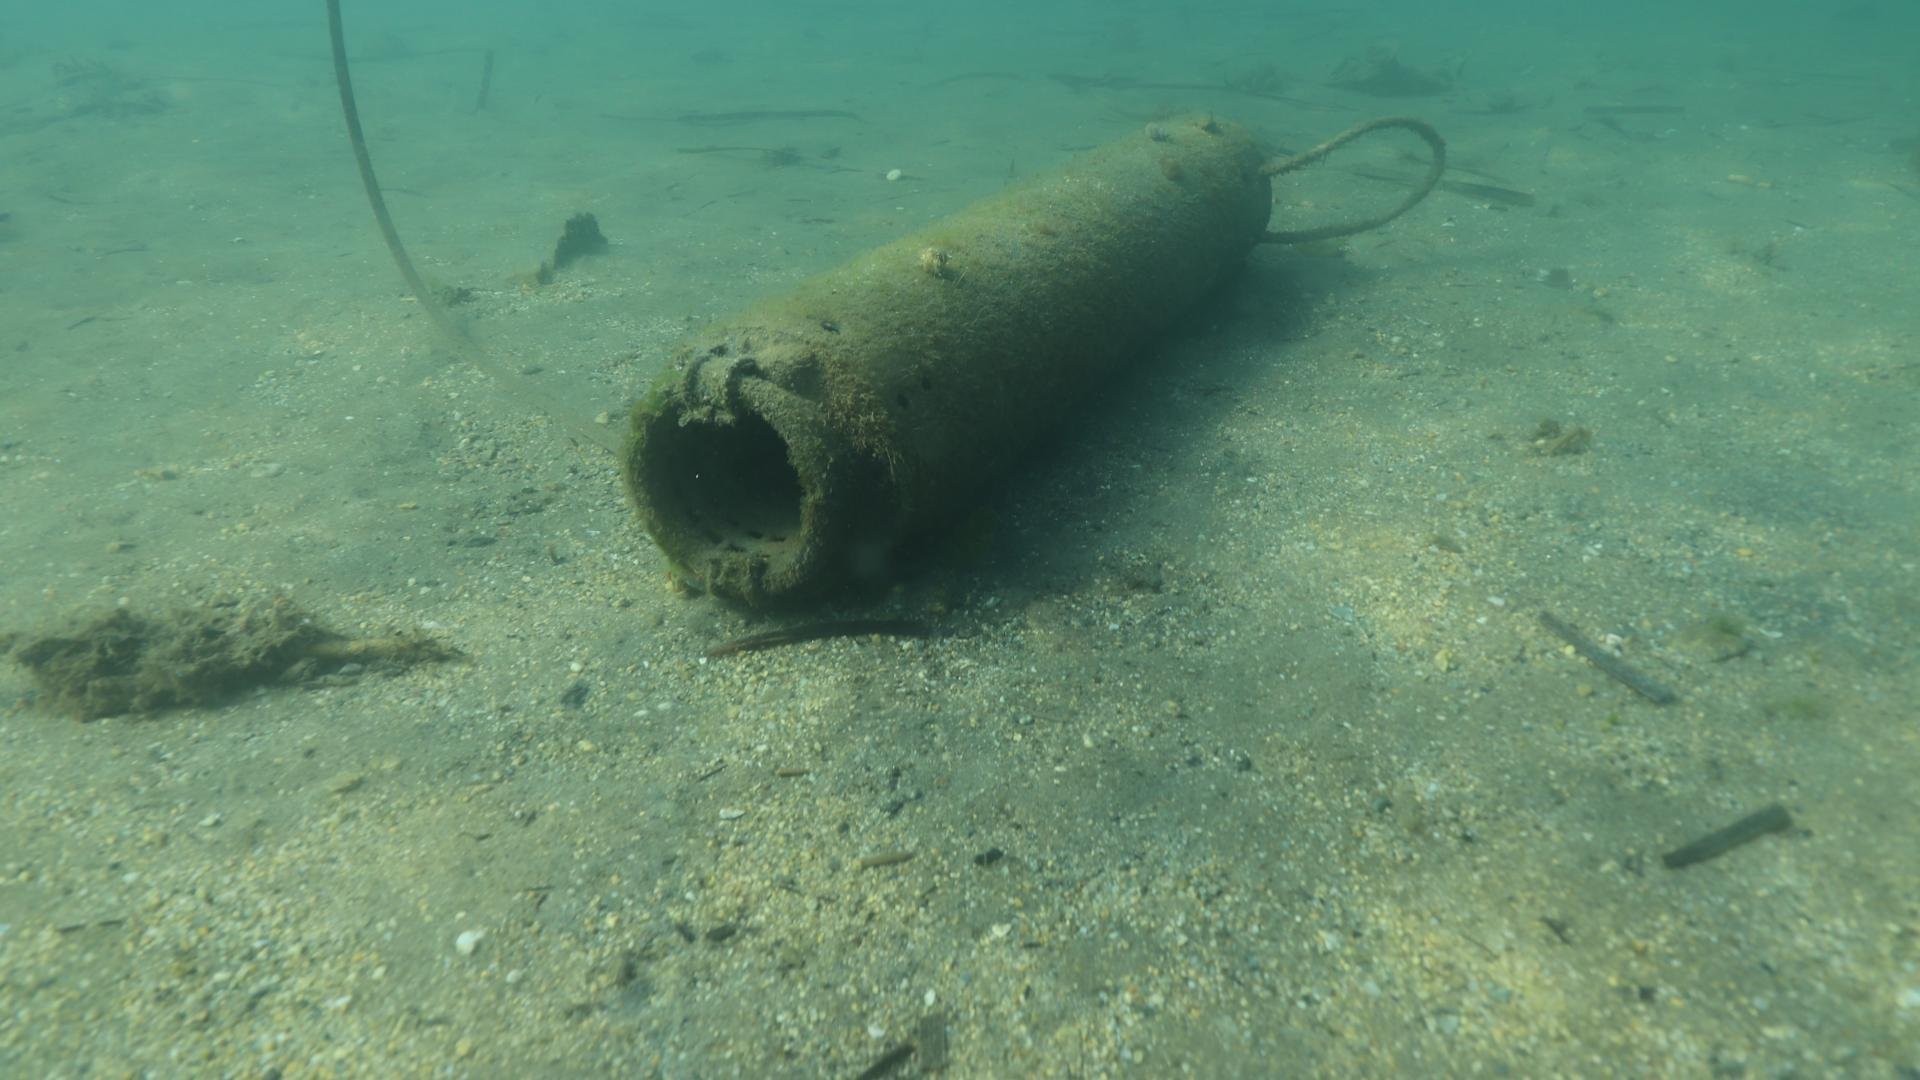eel fish trap: (618, 109, 1273, 607)
rope: (1253, 112, 1448, 243)
